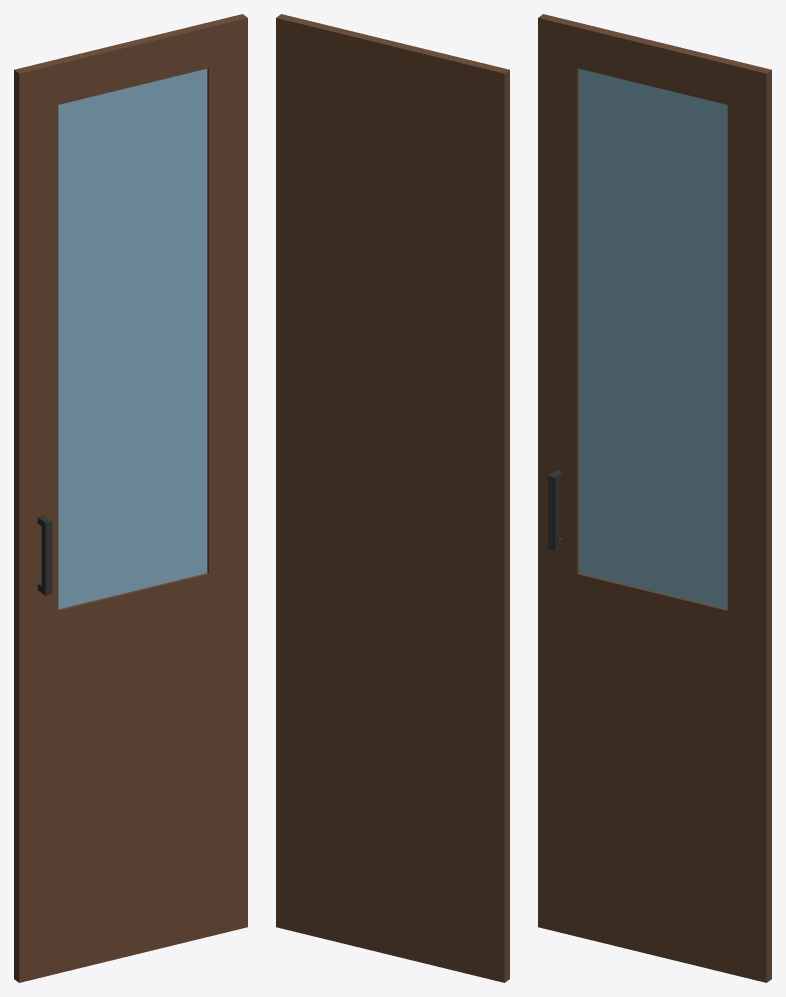
The model's file is Wardrobe1_C3_04.fbx.
3 views of the same model, side by side, from view 1: azimuth 30°, elevation 25°; view 2: azimuth 150°, elevation 25°; view 3: azimuth 330°, elevation 25° (orthographic).
Parts seen in each view (by area): view 1: Wardrobe1_C3_04; view 2: Wardrobe1_C3_04; view 3: Wardrobe1_C3_04.
Boxes of the visible parts, x1,y1,x2,y2 form: Wardrobe1_C3_04: (14, 14, 247, 982); Wardrobe1_C3_04: (276, 14, 509, 982); Wardrobe1_C3_04: (538, 14, 771, 982).
Bounding box in the file's own units: 50 × 190 × 5.02.
